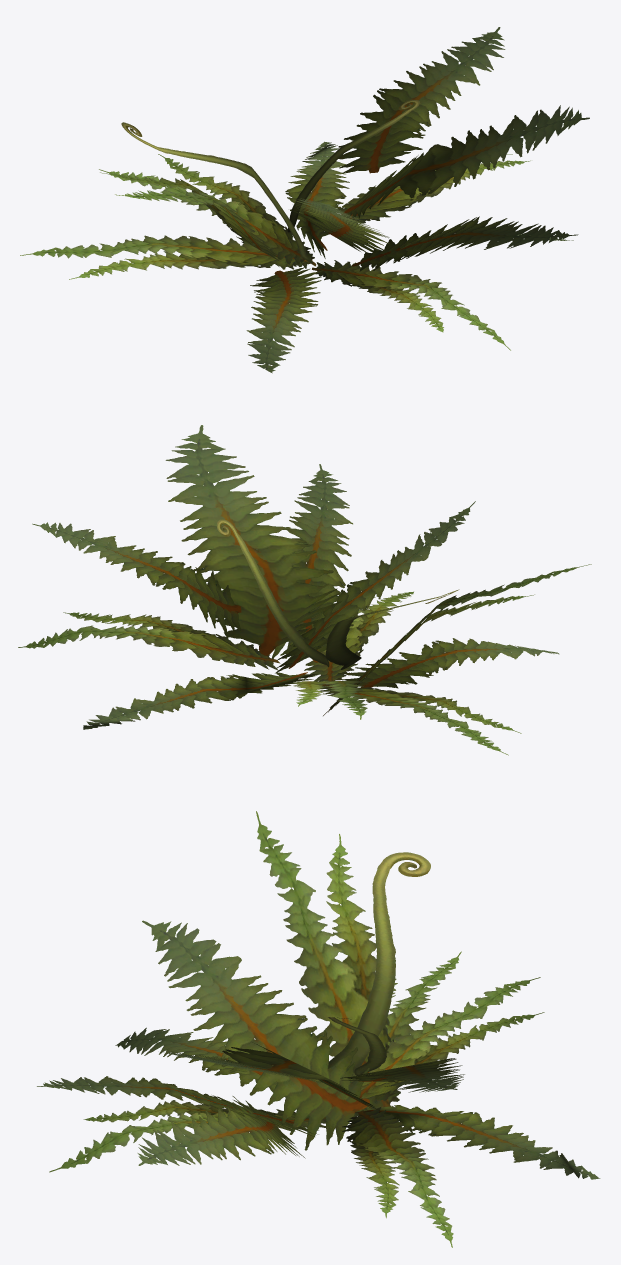
The model's file is fern_002.fbx.
3 renders of one model, top to bottom at view 1: azimuth 30°, elevation 25°; view 2: azimuth 150°, elevation 25°; view 3: azimuth 270°, elevation 25°, orthographic. The views are drawn at different scales.
Parts seen in each view (by area): view 1: fern_002; view 2: fern_002; view 3: fern_002.
Boxes of the visible parts, box(x1,y1,x2,y2) form: fern_002: box(20, 27, 589, 373); fern_002: box(18, 425, 591, 755); fern_002: box(37, 811, 600, 1247).
Size of the model in its own units: 17483 by 5794 by 15250.
